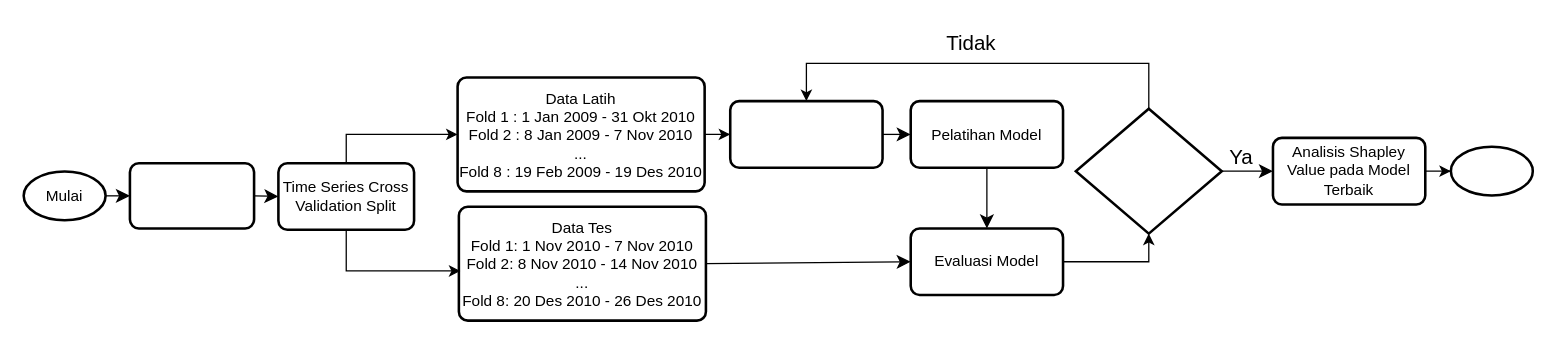
Image size: 1555x343. Some labels were removed from this diagram. The shapes that lost their labels are listed below. From the top down, each one's centre as x and y in pixels, then its label:
At point (805, 133): "Rekayasa Fitur & Tuning Hiperparameter".
At point (1148, 170): "Performa model dapat diterima?".
At point (1491, 170): "Selesai".
At point (191, 195): "Pengumpulan & Pra-proses Data".
